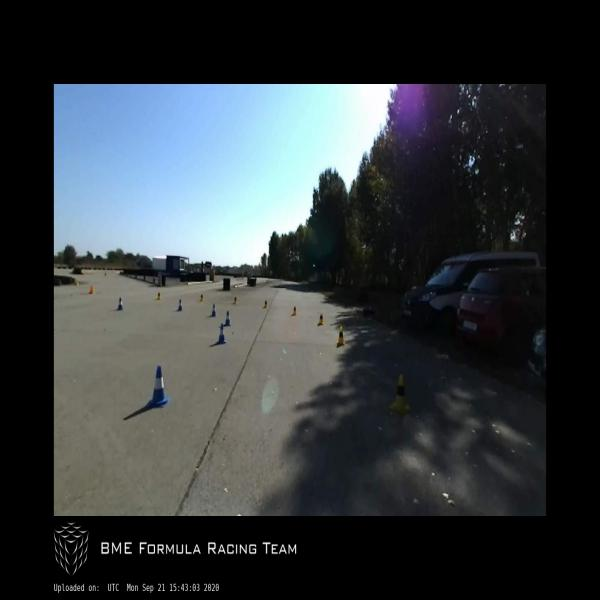blue_cone: (146, 366, 171, 408), (216, 323, 227, 345), (224, 310, 231, 326), (117, 296, 124, 311), (177, 298, 183, 312), (211, 304, 217, 317)
unknown_cone: (88, 284, 94, 294)
yellow_cone: (390, 374, 410, 416), (337, 326, 346, 346), (318, 312, 324, 325), (156, 291, 161, 301), (292, 304, 296, 316), (199, 293, 204, 302), (263, 300, 268, 308), (233, 296, 237, 305)
